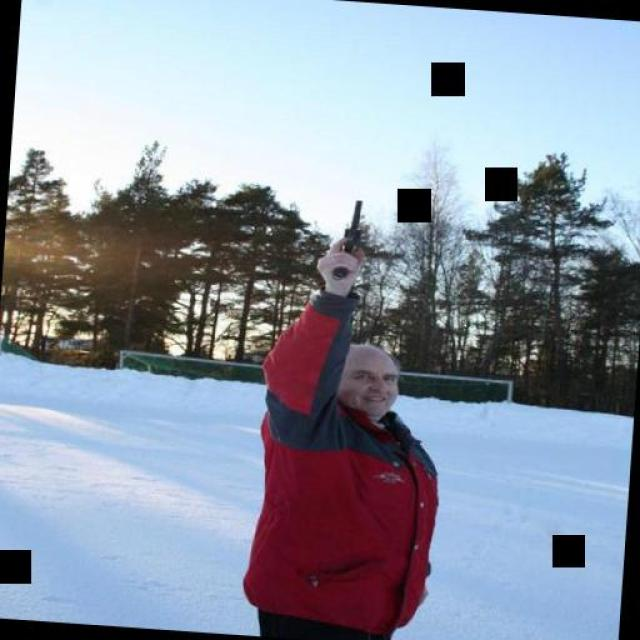gun: (314, 194, 382, 285)
